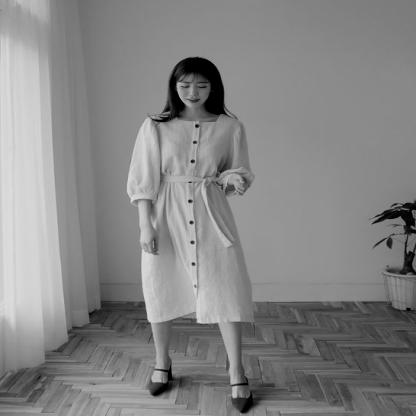dress: (126, 106, 266, 332)
